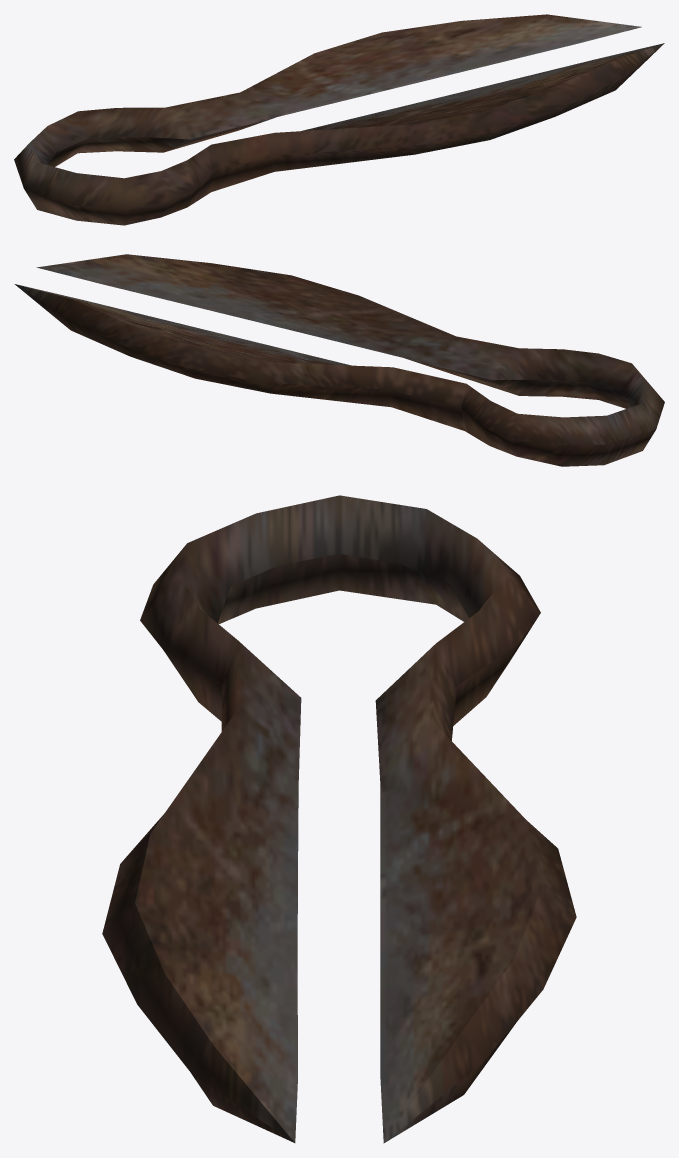
The model's file is dissect_scissors.dae.
The picture shows the model from 3 angles, top to bottom: view 1: azimuth 30°, elevation 25°; view 2: azimuth 150°, elevation 25°; view 3: azimuth 270°, elevation 25°; orthographic projection. The views are drawn at different scales.
Parts seen in each view (by area): view 1: extrudedSurface1; view 2: extrudedSurface1; view 3: extrudedSurface1.
Part boxes in pixels (x1=…): extrudedSurface1: x1=14, y1=14, x2=664, y2=225; extrudedSurface1: x1=14, y1=254, x2=664, y2=466; extrudedSurface1: x1=102, y1=495, x2=576, y2=1143.
Bounding box in the file's own units: 0.2792 × 0.0203 × 0.091.
